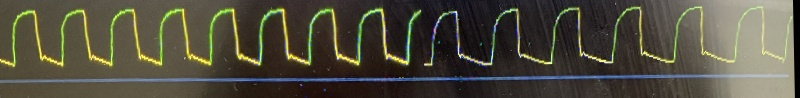normal_pressure: (0, 1, 773, 75)
